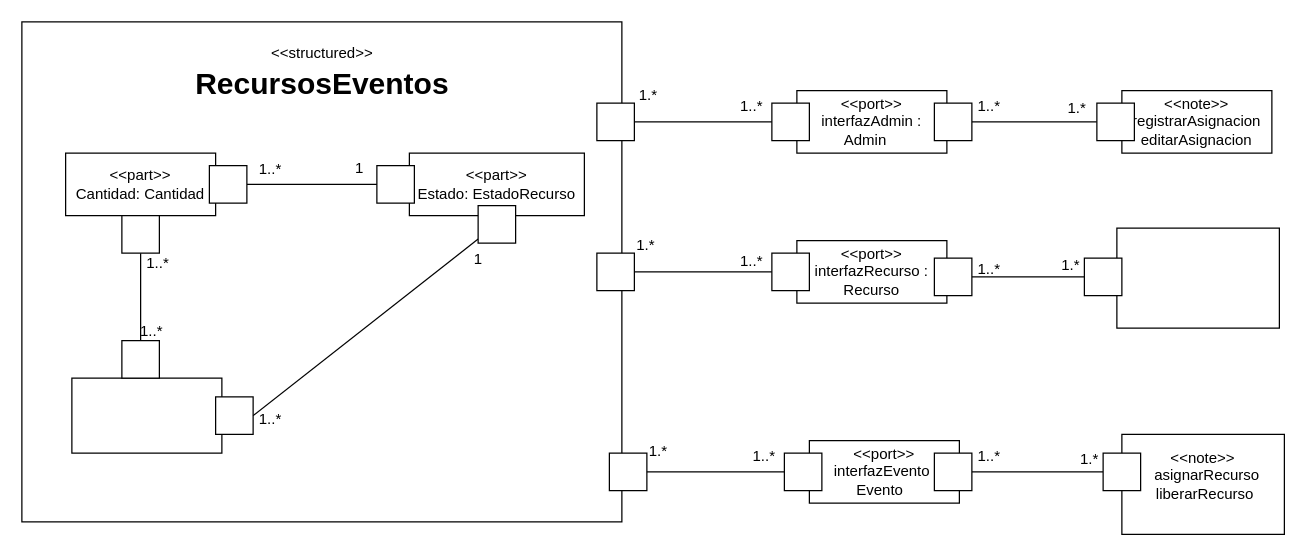
Image size: 1306x556. Some labels were removed from this diagram. The shapes that lost their labels are listed below. From the top down, each one's centre as x and y in pixels, then its label:
At [1197,277]: "<<note>> obtenerDatosRecurso".
At [146,415]: "<<part>> Fecha: FechaAsignacion".
